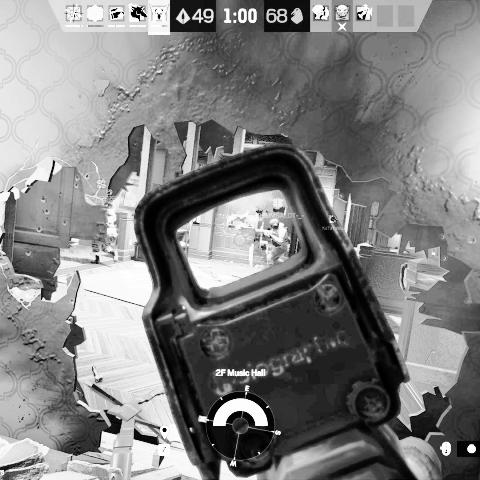Character: (90, 202, 120, 266), (255, 217, 291, 270)
Friend_label: (251, 197, 304, 220), (84, 178, 118, 200), (94, 188, 123, 204), (322, 215, 346, 231)
Head: (269, 218, 280, 229), (103, 201, 114, 210)
